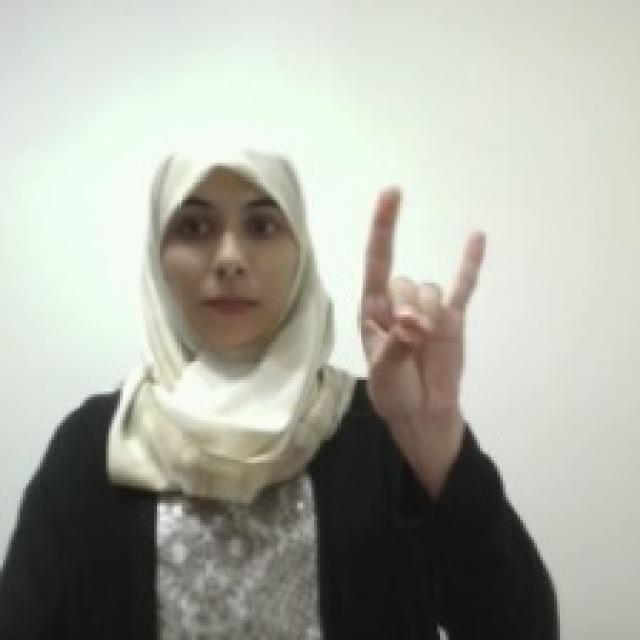Dog: (355, 177, 493, 418)
